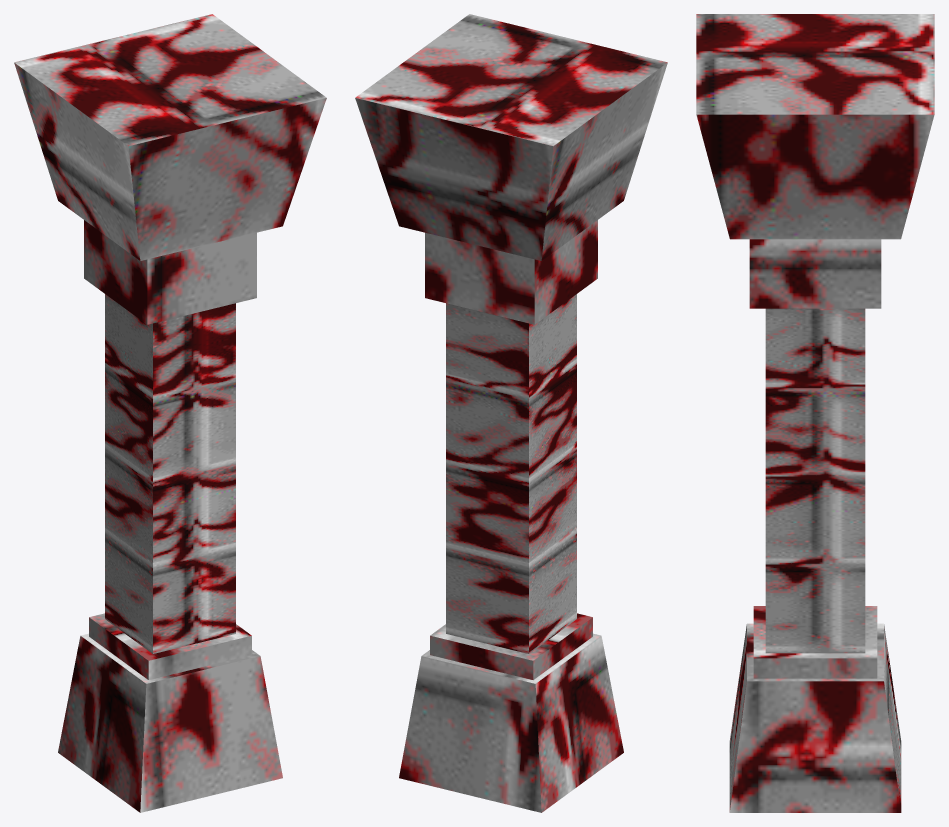
The model's file is Pillar.glb.
3 views of the same model, side by side, from view 1: azimuth 30°, elevation 25°; view 2: azimuth 150°, elevation 25°; view 3: azimuth 270°, elevation 25° (orthographic). The views are drawn at different scales.
Parts seen in each view (by area): view 1: Cube.001; view 2: Cube.001; view 3: Cube.001.
Boxes of the visible parts, box(x1,y1,x2,y2) form: Cube.001: box(14, 14, 326, 812); Cube.001: box(355, 14, 667, 812); Cube.001: box(696, 14, 934, 812).
Bounding box in the file's own units: 1.11 × 3.67 × 1.11.
Materials: 1 (1 with a texture image).
